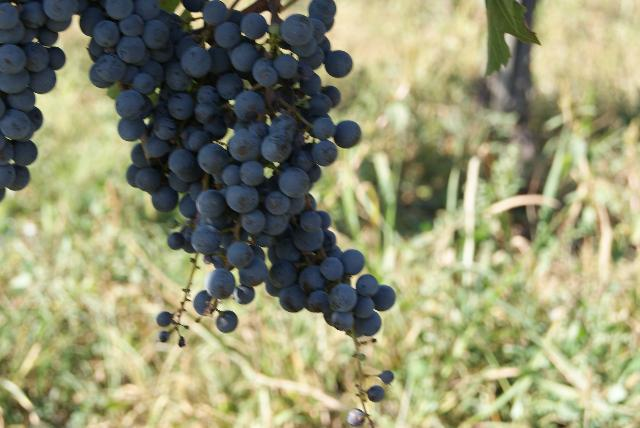grapes: (132, 0, 394, 336)
